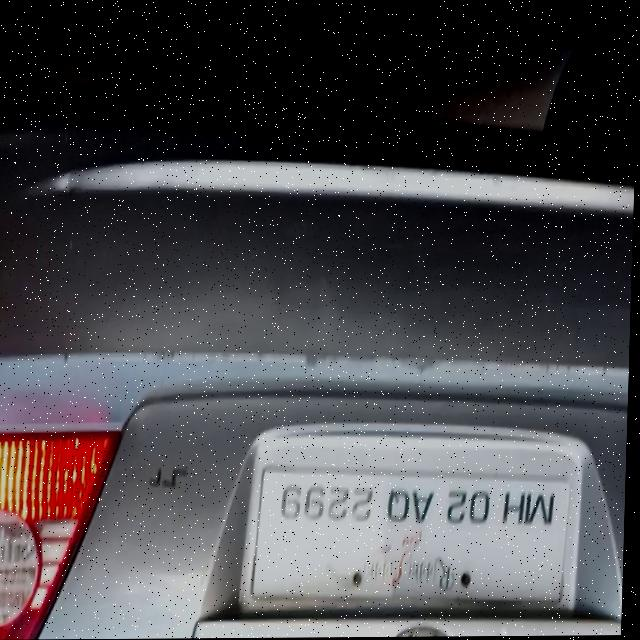plate: (247, 452, 580, 619)
